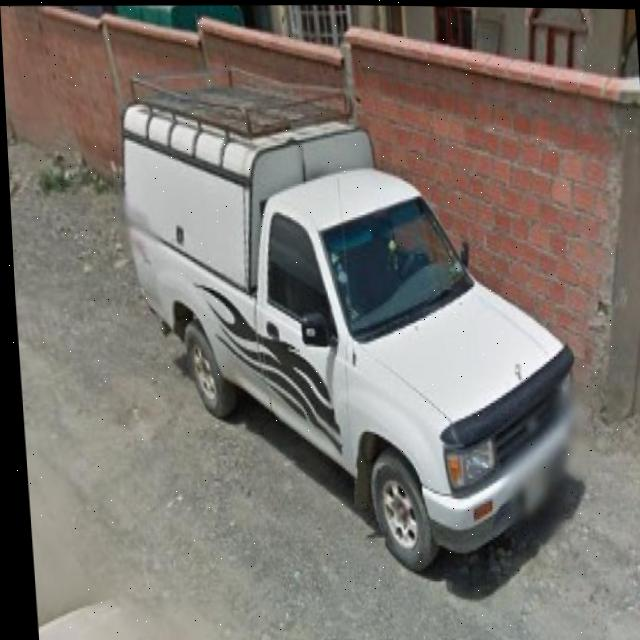vehicle: (119, 84, 582, 572)
